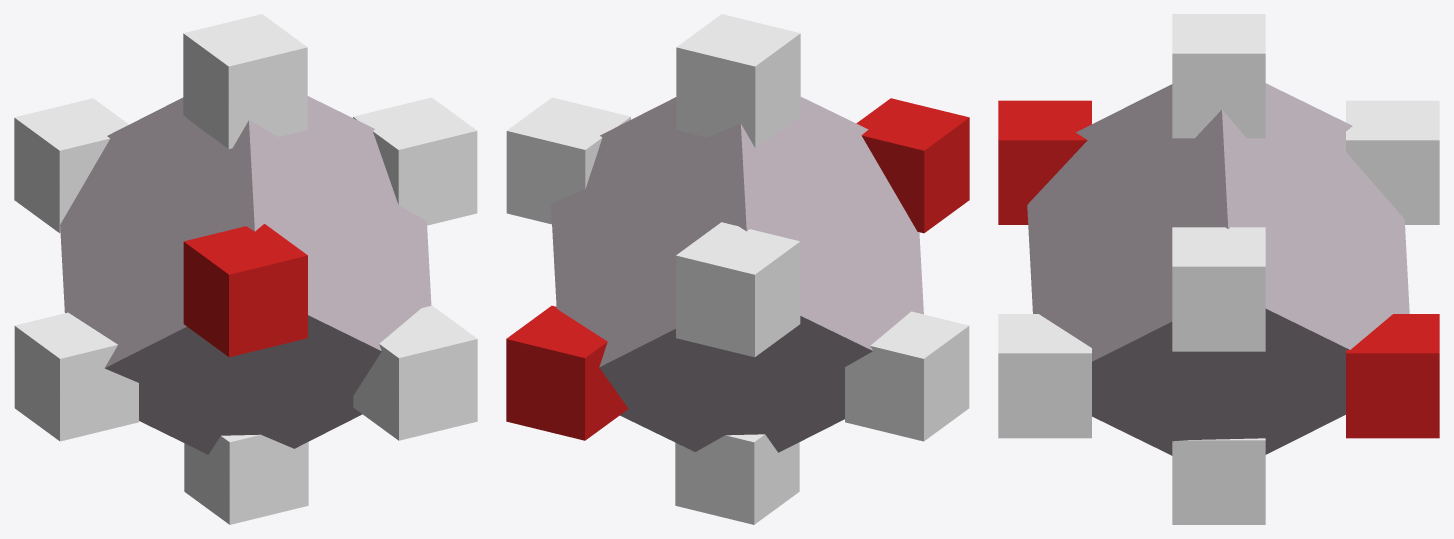
Rendered from aluminium-hydroxide.glb.
3 views of the same model, side by side, from view 1: azimuth 30°, elevation 25°; view 2: azimuth 150°, elevation 25°; view 3: azimuth 270°, elevation 25° (orthographic). The views are drawn at different scales.
Parts seen in each view (by area): view 1: Cube.021; view 2: Cube.021; view 3: Cube.021.
Boxes of the visible parts, x1,y1,x2,y2 form: Cube.021: (14,14,477,524); Cube.021: (506,14,969,524); Cube.021: (998,14,1439,524).
Size of the model in its own units: 4.76 by 5 by 4.25.
1 material, 1 textured.
